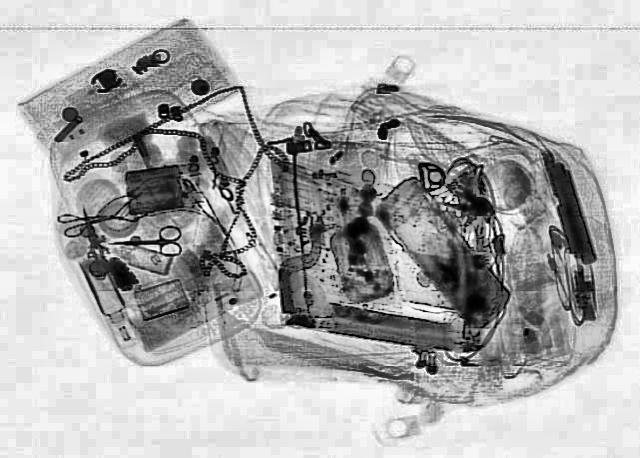Scissors: (108, 224, 182, 257), (54, 204, 126, 237)
